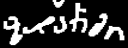question: (0, 0, 128, 48)
